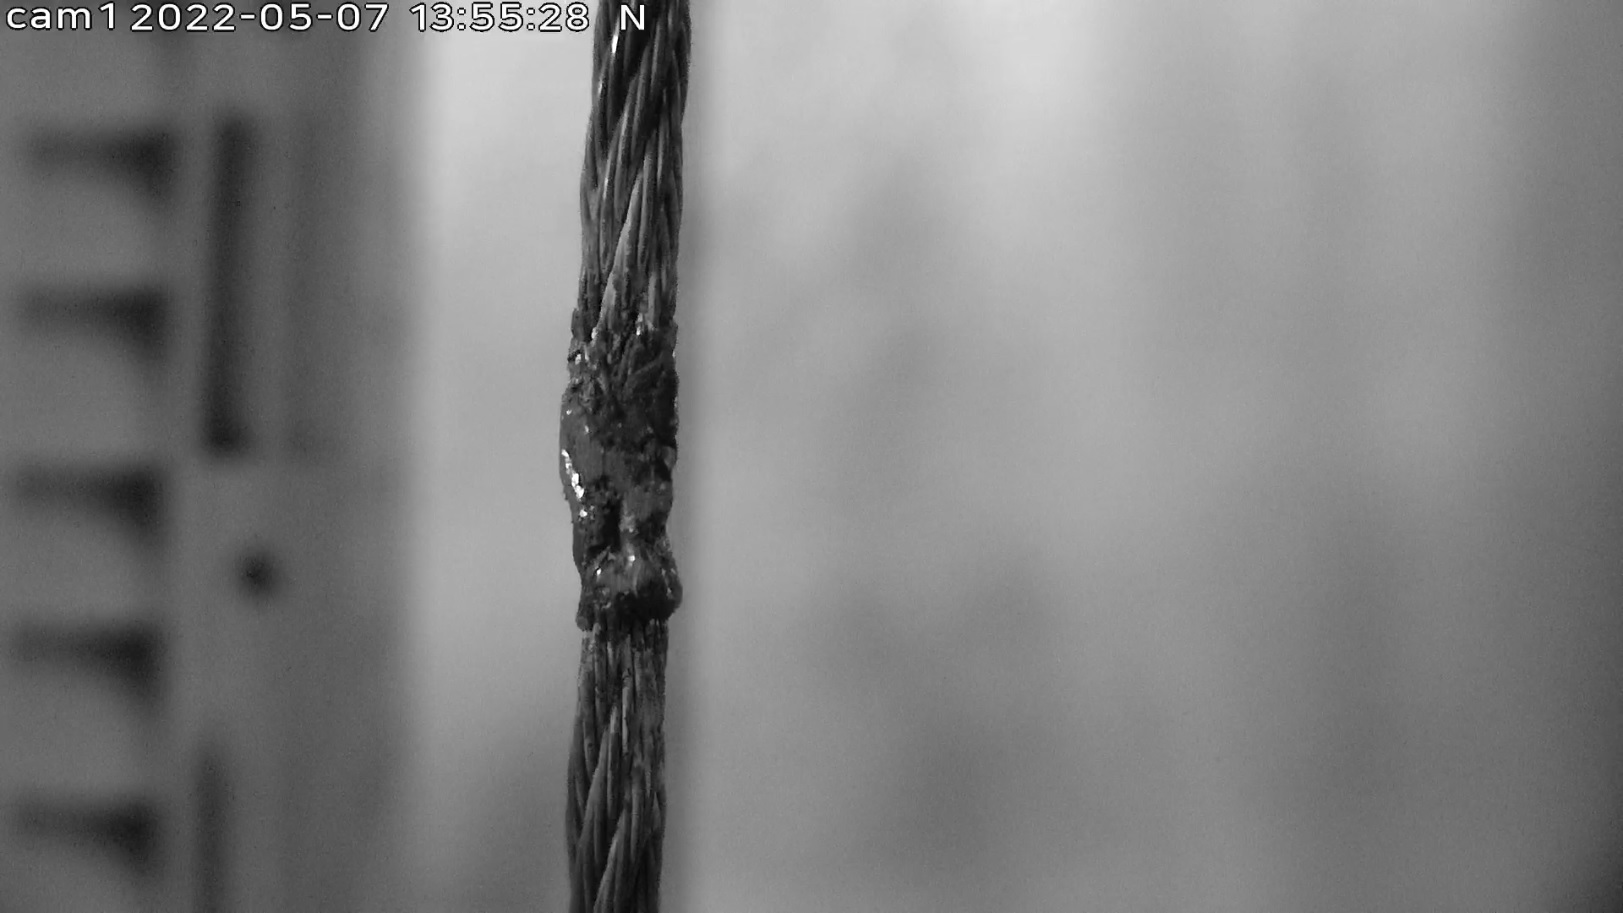spike: (552, 304, 693, 650)
